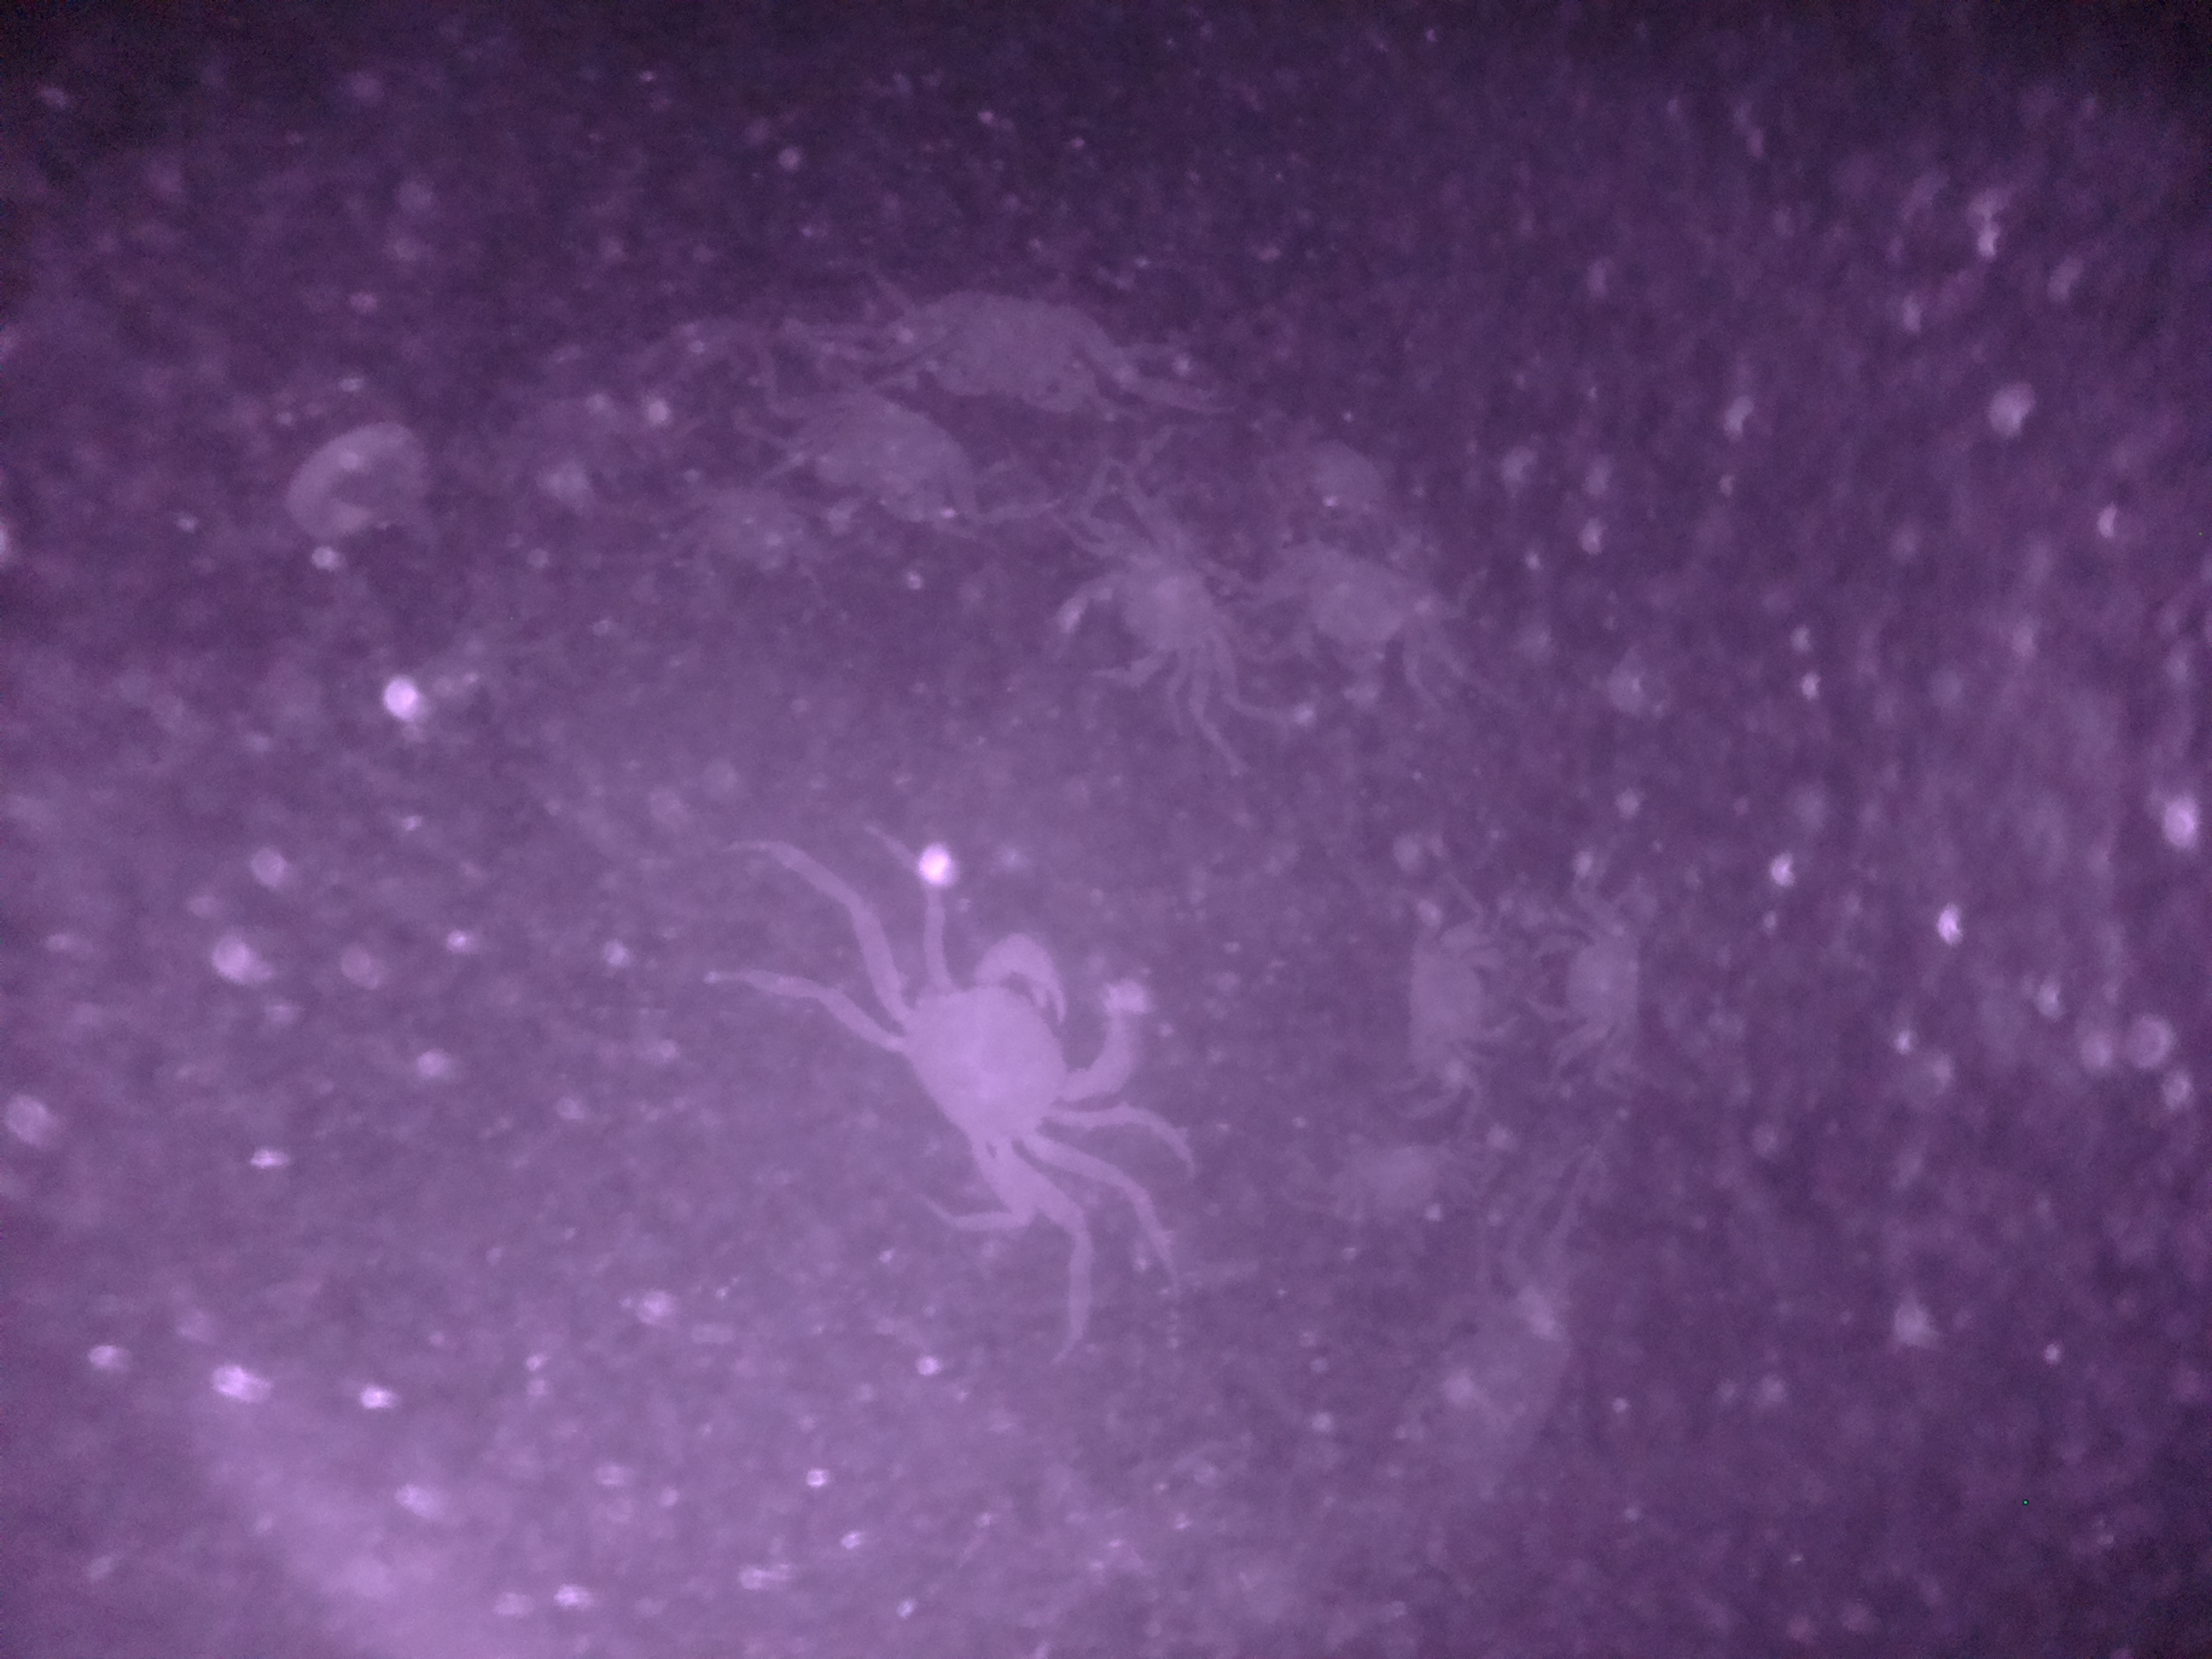Crab: (866, 924, 1162, 1194), (887, 277, 1148, 427), (1042, 511, 1242, 706), (1531, 889, 1674, 1075), (1397, 918, 1521, 1098)
